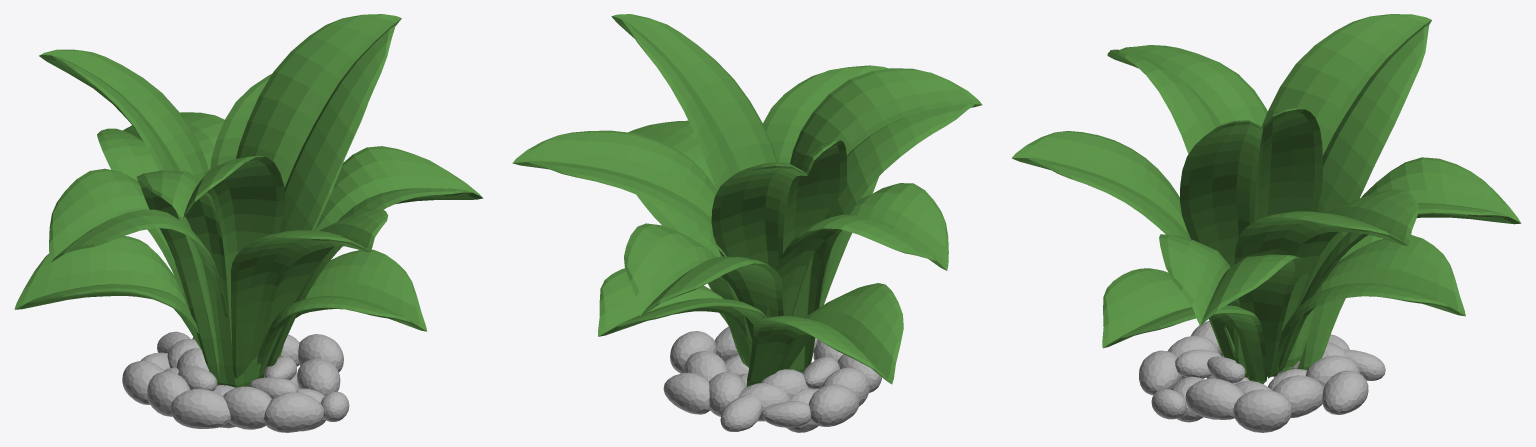
The model's file is Jade_L.fbx.
3 renders of one model, left to right at view 1: azimuth 30°, elevation 25°; view 2: azimuth 150°, elevation 25°; view 3: azimuth 270°, elevation 25°, orthographic.
Visible parts, largest first — view 1: Plane.014; view 2: Plane.014; view 3: Plane.014.
Boxes of the visible parts, bbox=[...] form: Plane.014: bbox=[14, 14, 482, 432]; Plane.014: bbox=[512, 14, 982, 432]; Plane.014: bbox=[1012, 14, 1521, 432].
Bounding box in the file's own units: 4428 × 3823 × 4877.
